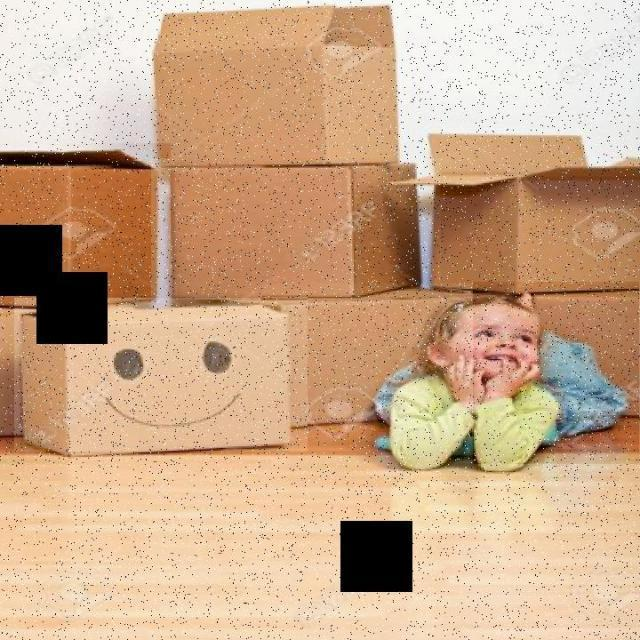box: (14, 298, 308, 452), (143, 5, 417, 167), (151, 158, 441, 303), (424, 121, 640, 289), (262, 284, 481, 444), (473, 282, 639, 466), (0, 143, 171, 316)
